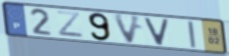2: (29, 8, 54, 37)
9: (86, 12, 112, 42)
I: (186, 20, 199, 49)
V: (111, 12, 144, 45), (143, 16, 172, 47)
Z: (55, 9, 86, 39)
